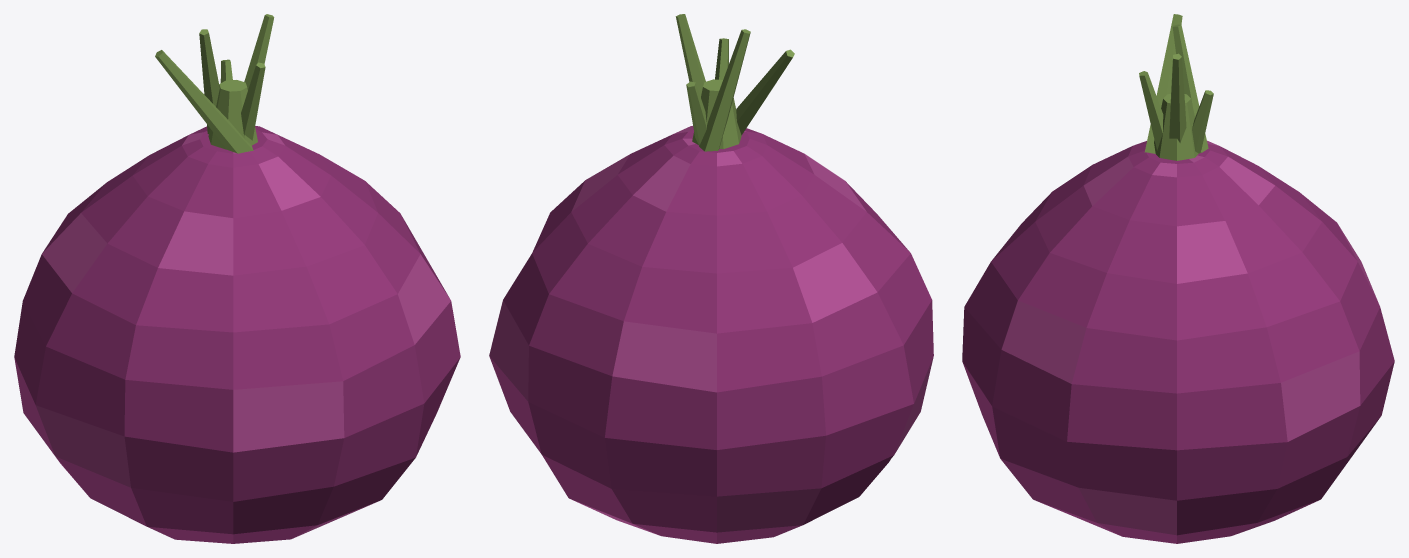
File: Cebolla morada.fbx
The picture shows the model from 3 angles, left to right: view 1: azimuth 30°, elevation 25°; view 2: azimuth 150°, elevation 25°; view 3: azimuth 270°, elevation 25°; orthographic projection. The views are drawn at different scales.
Visible parts, largest first — view 1: Cebolla Morada Low Poly, Hoja verde.003, Tallo de la cebolla, Hoja verde.004, Hoja verde.002, Hoja verde; view 2: Cebolla Morada Low Poly, Hoja verde.002, Hoja verde.003, Tallo de la cebolla, Hoja verde, Hoja verde.001; view 3: Cebolla Morada Low Poly, Tallo de la cebolla, Hoja verde, Hoja verde.003, Hoja verde.002, Hoja verde.004, Hoja verde.001.
Boxes of the visible parts, bbox=[...] form: Cebolla Morada Low Poly: bbox=[14, 126, 460, 543]; Hoja verde.003: bbox=[155, 50, 253, 153]; Tallo de la cebolla: bbox=[208, 80, 257, 149]; Hoja verde.004: bbox=[241, 62, 265, 140]; Hoja verde.002: bbox=[199, 29, 219, 133]; Hoja verde: bbox=[244, 14, 274, 89]; Cebolla Morada Low Poly: bbox=[489, 126, 933, 543]; Hoja verde.002: bbox=[699, 29, 750, 151]; Hoja verde.003: bbox=[736, 49, 794, 135]; Tallo de la cebolla: bbox=[692, 79, 741, 149]; Hoja verde: bbox=[675, 14, 705, 97]; Hoja verde.001: bbox=[686, 81, 706, 145]; Cebolla Morada Low Poly: bbox=[962, 140, 1394, 543]; Tallo de la cebolla: bbox=[1154, 94, 1198, 160]; Hoja verde: bbox=[1169, 53, 1186, 142]; Hoja verde.003: bbox=[1144, 14, 1182, 153]; Hoja verde.002: bbox=[1172, 24, 1208, 152]; Hoja verde.004: bbox=[1139, 71, 1163, 150]; Hoja verde.001: bbox=[1192, 90, 1213, 153].
Bounding box in the file's own units: 216 × 263 × 217.
